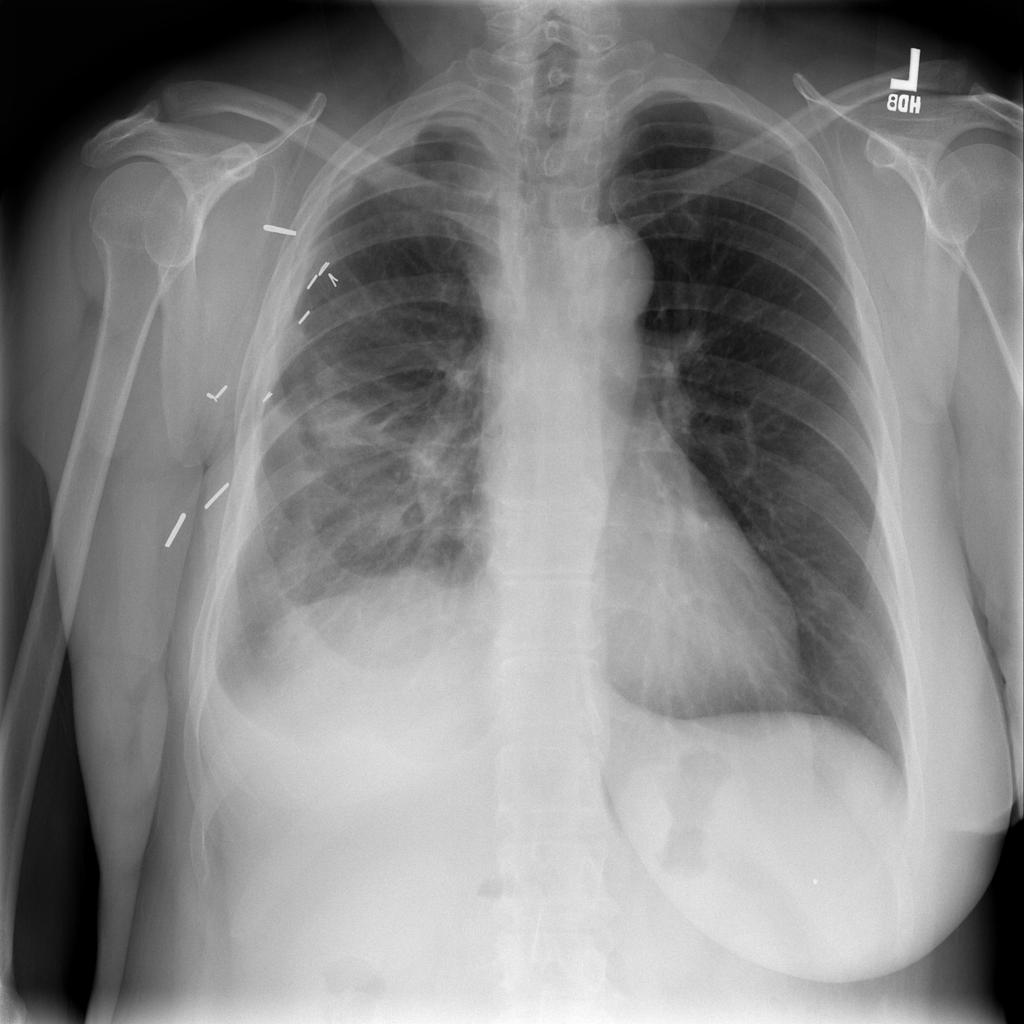nodule: (305, 390, 386, 461)
